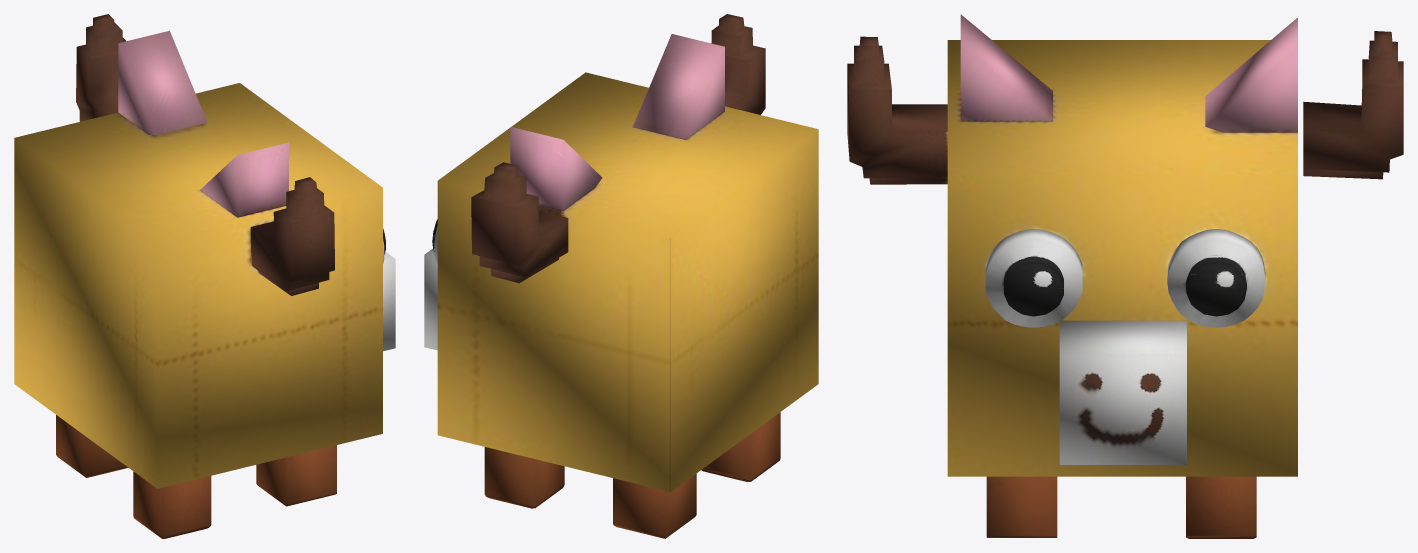
Rendered from tripo_convert_6651ae60-44e8-4854-8f27-c0d4a7d8066d.fbx.
3 renders of one model, left to right at view 1: azimuth 30°, elevation 25°; view 2: azimuth 150°, elevation 25°; view 3: azimuth 270°, elevation 25°, orthographic. The views are drawn at different scales.
Parts seen in each view (by area): view 1: tripo_node_6651ae60; view 2: tripo_node_6651ae60; view 3: tripo_node_6651ae60.
Part boxes in pixels (box(x1,y1,x2,y2)): tripo_node_6651ae60: box(14, 14, 395, 538); tripo_node_6651ae60: box(424, 14, 818, 538); tripo_node_6651ae60: box(847, 14, 1403, 538).
Bounding box in the file's own units: 72.07 × 99.8 × 93.16.
